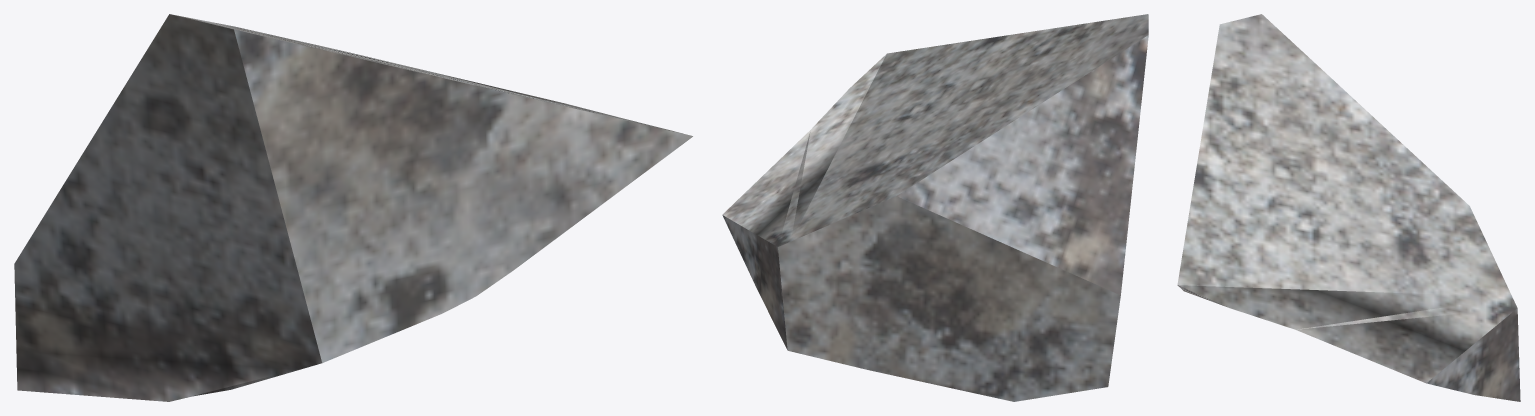
Rendered from Asteroid_Large_001_02_001_03_003.fbx.
3 views of the same model, side by side, from view 1: azimuth 30°, elevation 25°; view 2: azimuth 150°, elevation 25°; view 3: azimuth 270°, elevation 25° (orthographic). The views are drawn at different scales.
Parts seen in each view (by area): view 1: Asteroid_Large_001_02_001_03_003; view 2: Asteroid_Large_001_02_001_03_003; view 3: Asteroid_Large_001_02_001_03_003.
Part boxes in pixels (left/top/right/bottom): Asteroid_Large_001_02_001_03_003: left=14, top=14, right=692, bottom=401; Asteroid_Large_001_02_001_03_003: left=722, top=14, right=1148, bottom=401; Asteroid_Large_001_02_001_03_003: left=1177, top=14, right=1520, bottom=401.
Size of the model in its own units: 5.59 by 4.39 by 4.38.
